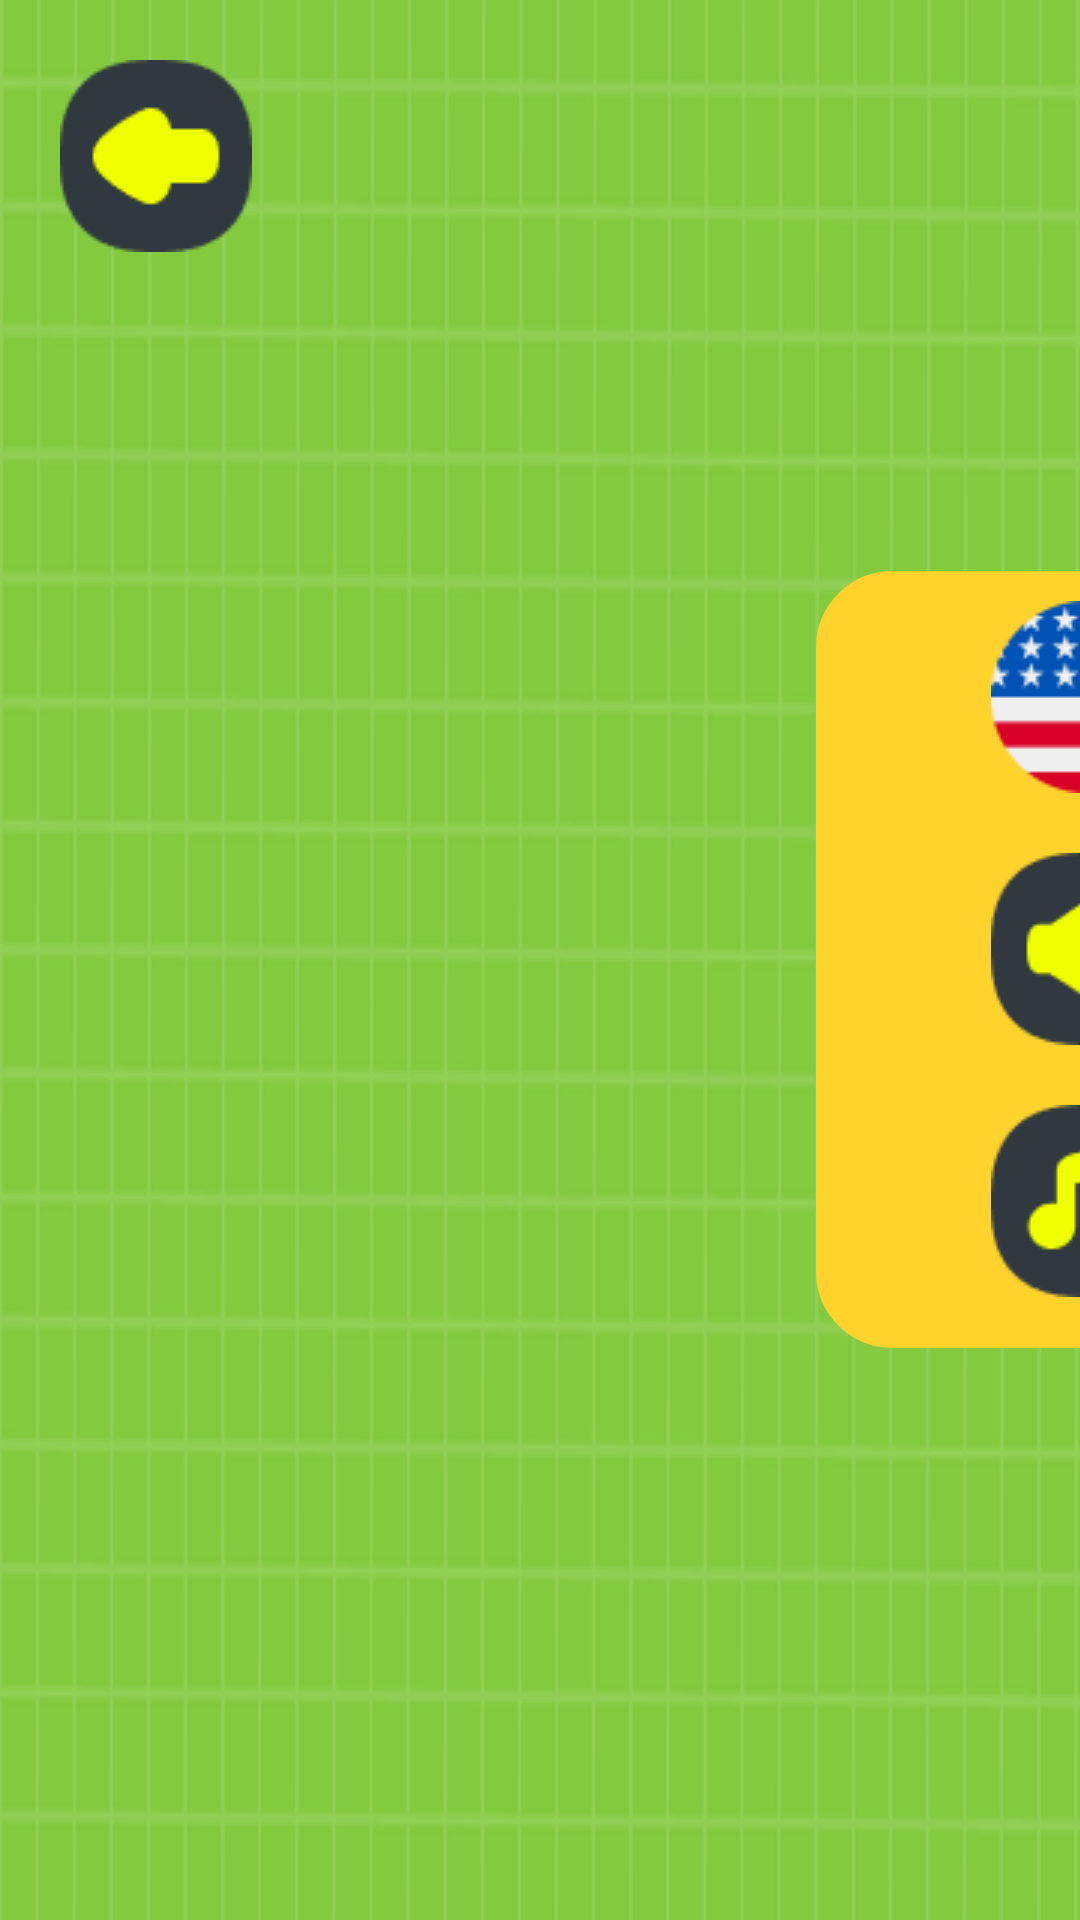

Named icons in this screenshot (1080x1920) and their bounding boxes, [x1=x1, y1=y1, x2=x2, y2=y2]:
back: [x1=0, y1=0, x2=312, y2=312]
